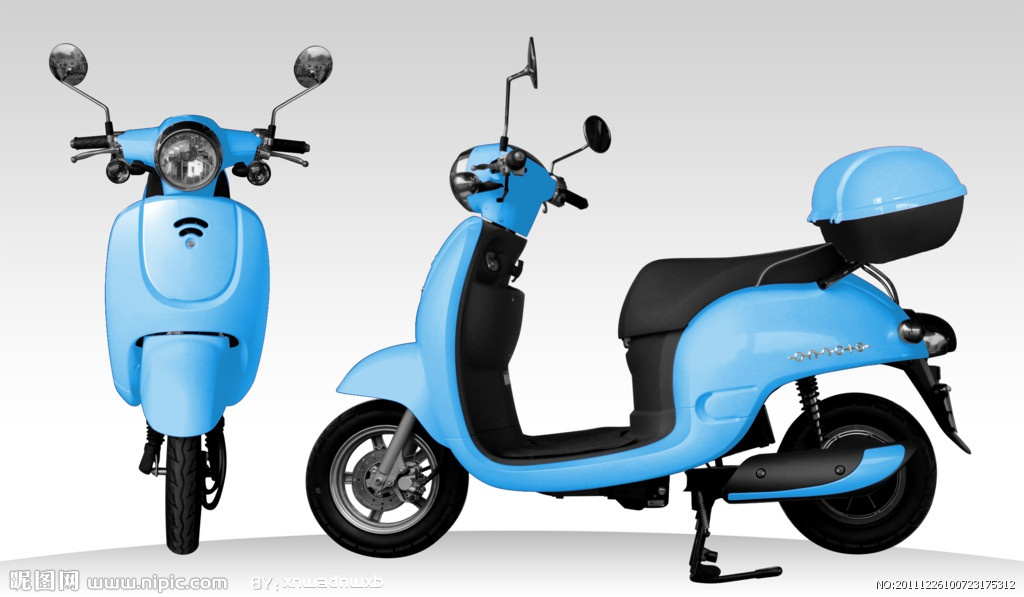non-vehicle: (305, 67, 970, 564), (45, 40, 299, 558)
